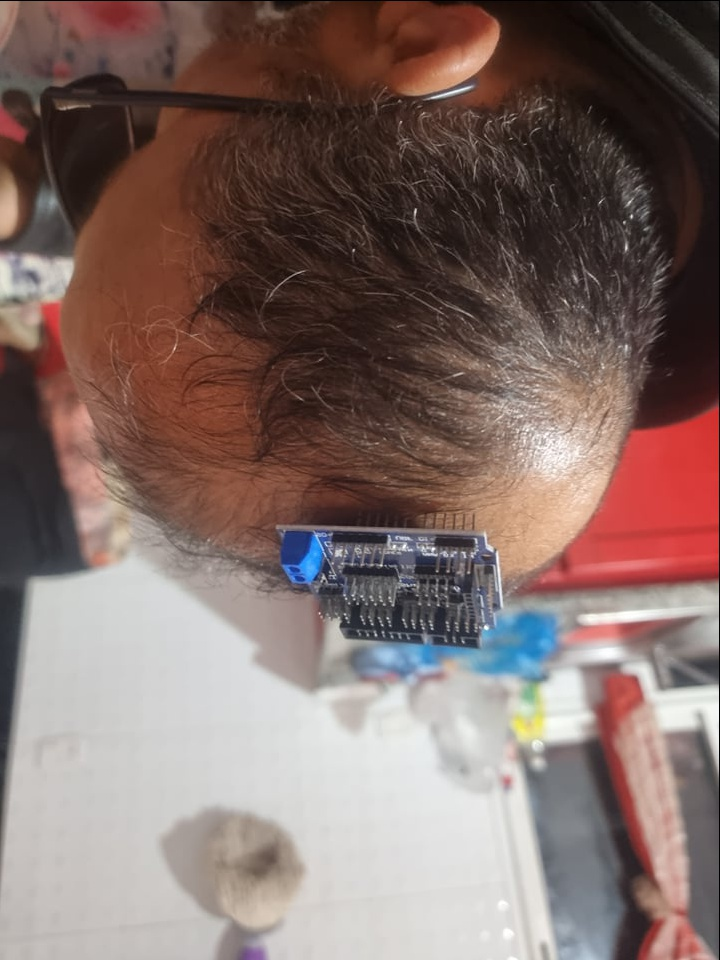5V EXPANSION: (274, 505, 503, 647)
